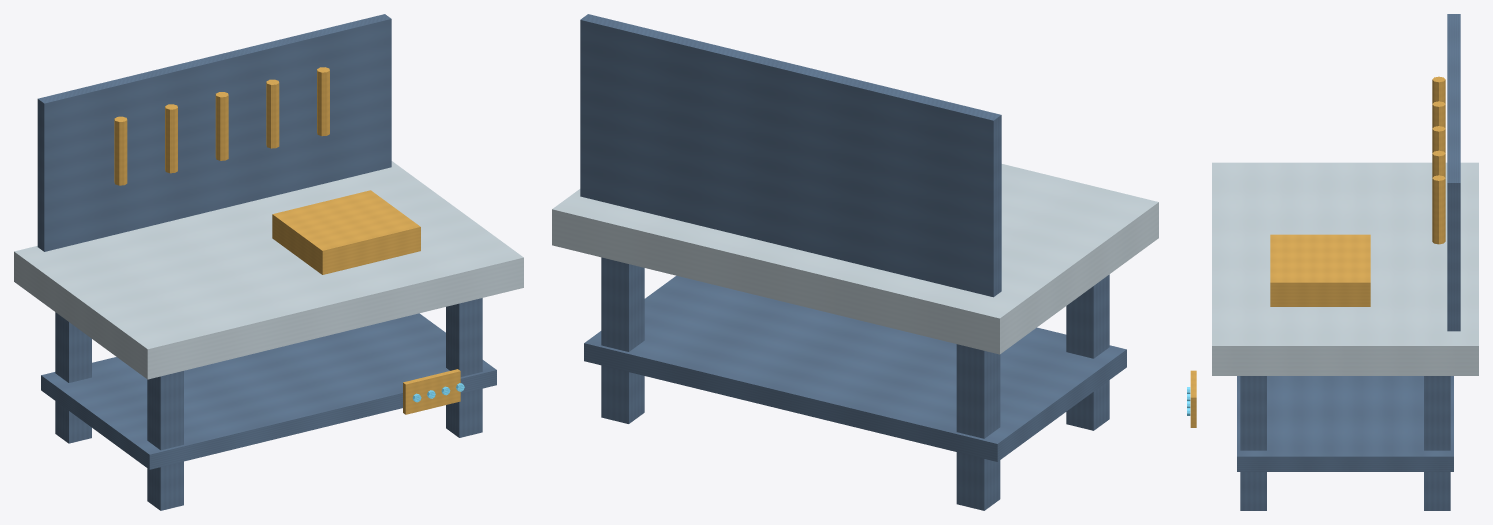
File: atlas100-s058-a06.glb
3 renders of one model, left to right at view 1: azimuth 30°, elevation 25°; view 2: azimuth 150°, elevation 25°; view 3: azimuth 270°, elevation 25°, orthographic. The views are drawn at different scales.
Visible parts, largest first — view 1: atlas100-s058-a06:part-004, atlas100-s058-a06:part-006, atlas100-s058-a06:part-005, atlas100-s058-a06:part-012, atlas100-s058-a06:part-001, atlas100-s058-a06:part-003, atlas100-s058-a06:part-000, atlas100-s058-a06:part-013, atlas100-s058-a06:part-010, atlas100-s058-a06:part-007, atlas100-s058-a06:part-009, atlas100-s058-a06:part-008 (+1 smaller); view 2: atlas100-s058-a06:part-006, atlas100-s058-a06:part-005, atlas100-s058-a06:part-004, atlas100-s058-a06:part-000, atlas100-s058-a06:part-002, atlas100-s058-a06:part-001; view 3: atlas100-s058-a06:part-004, atlas100-s058-a06:part-005, atlas100-s058-a06:part-012, atlas100-s058-a06:part-006, atlas100-s058-a06:part-002, atlas100-s058-a06:part-003, atlas100-s058-a06:part-011, atlas100-s058-a06:part-013, atlas100-s058-a06:part-009, atlas100-s058-a06:part-008, atlas100-s058-a06:part-007, atlas100-s058-a06:part-010.
Part boxes in pixels (bbox=[...]): atlas100-s058-a06:part-004: bbox=[14, 161, 523, 379]; atlas100-s058-a06:part-006: bbox=[37, 14, 391, 251]; atlas100-s058-a06:part-005: bbox=[41, 313, 496, 469]; atlas100-s058-a06:part-012: bbox=[272, 190, 420, 274]; atlas100-s058-a06:part-001: bbox=[147, 371, 183, 510]; atlas100-s058-a06:part-003: bbox=[446, 298, 482, 437]; atlas100-s058-a06:part-000: bbox=[55, 312, 91, 443]; atlas100-s058-a06:part-013: bbox=[403, 369, 460, 414]; atlas100-s058-a06:part-010: bbox=[266, 79, 279, 148]; atlas100-s058-a06:part-007: bbox=[114, 116, 127, 185]; atlas100-s058-a06:part-009: bbox=[215, 92, 228, 160]; atlas100-s058-a06:part-008: bbox=[165, 104, 177, 173]; atlas100-s058-a06:part-006: bbox=[580, 14, 1001, 297]; atlas100-s058-a06:part-005: bbox=[584, 275, 1126, 461]; atlas100-s058-a06:part-004: bbox=[552, 164, 1158, 354]; atlas100-s058-a06:part-000: bbox=[956, 344, 1000, 510]; atlas100-s058-a06:part-002: bbox=[601, 257, 644, 423]; atlas100-s058-a06:part-001: bbox=[1066, 274, 1109, 430]; atlas100-s058-a06:part-004: bbox=[1212, 162, 1478, 375]; atlas100-s058-a06:part-005: bbox=[1237, 376, 1453, 471]; atlas100-s058-a06:part-012: bbox=[1270, 234, 1370, 306]; atlas100-s058-a06:part-006: bbox=[1447, 14, 1460, 331]; atlas100-s058-a06:part-002: bbox=[1424, 376, 1450, 510]; atlas100-s058-a06:part-003: bbox=[1240, 376, 1266, 510]; atlas100-s058-a06:part-011: bbox=[1432, 175, 1445, 244]; atlas100-s058-a06:part-013: bbox=[1190, 370, 1196, 427]; atlas100-s058-a06:part-009: bbox=[1432, 126, 1445, 152]; atlas100-s058-a06:part-008: bbox=[1432, 101, 1445, 128]; atlas100-s058-a06:part-007: bbox=[1432, 76, 1445, 103]; atlas100-s058-a06:part-010: bbox=[1432, 150, 1445, 177].
Bounding box in the file's own units: 2.6 × 2.21 × 1.75.
Materials: 4 (4 with a texture image).
